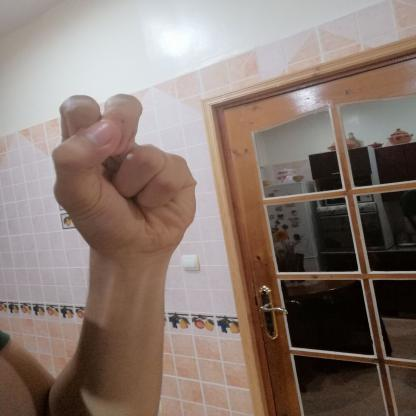QAAF: (33, 83, 223, 271)
